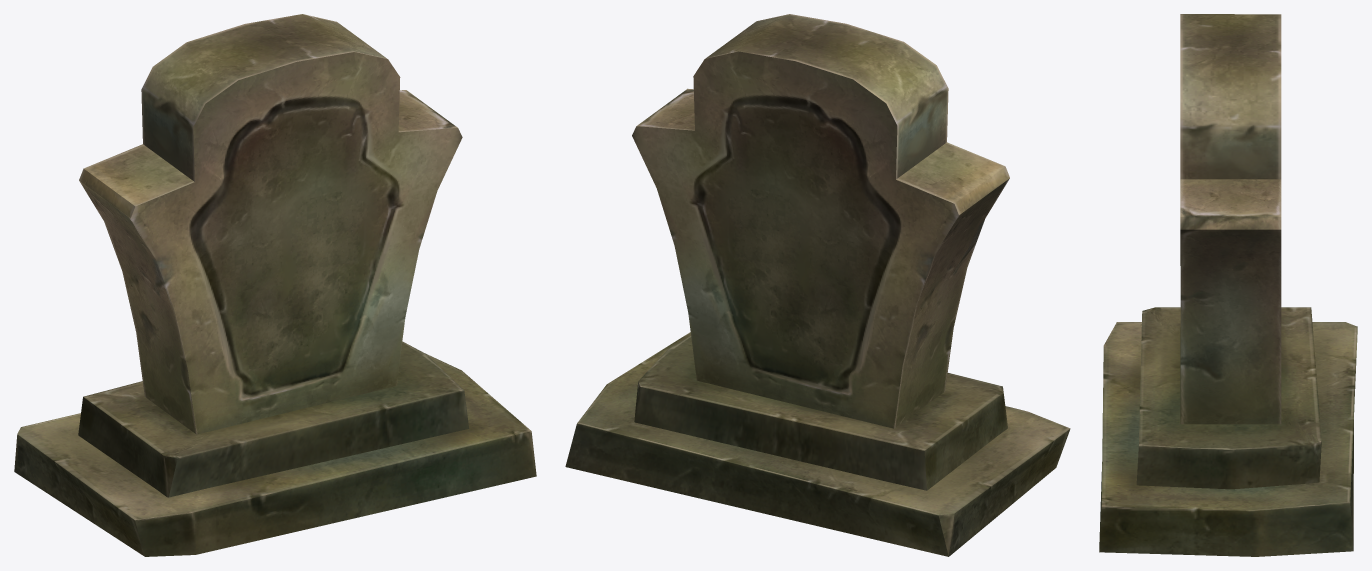
The model's file is tombstone.FBX.
3 renders of one model, left to right at view 1: azimuth 30°, elevation 25°; view 2: azimuth 150°, elevation 25°; view 3: azimuth 270°, elevation 25°, orthographic. The views are drawn at different scales.
Visible parts, largest first — view 1: tombstone; view 2: tombstone; view 3: tombstone.
Boxes of the visible parts, bbox=[...] form: tombstone: bbox=[14, 14, 536, 556]; tombstone: bbox=[565, 14, 1070, 556]; tombstone: bbox=[1099, 14, 1357, 556].
Size of the model in its own units: 49.88 by 51.2 by 28.57.
